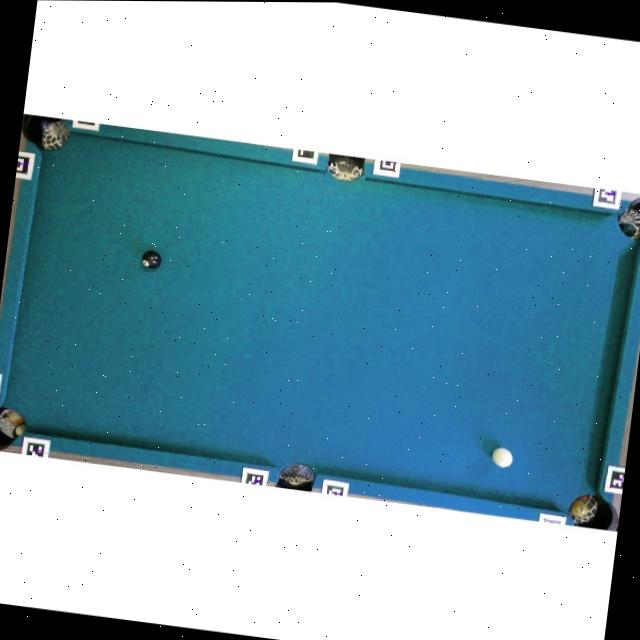cue ball: (489, 445, 514, 469)
other: (140, 248, 164, 271)
